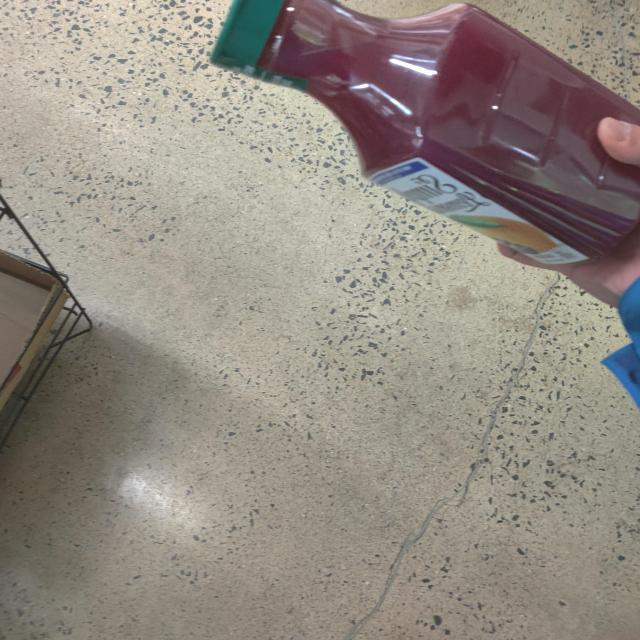Juice: (209, 0, 640, 267)
